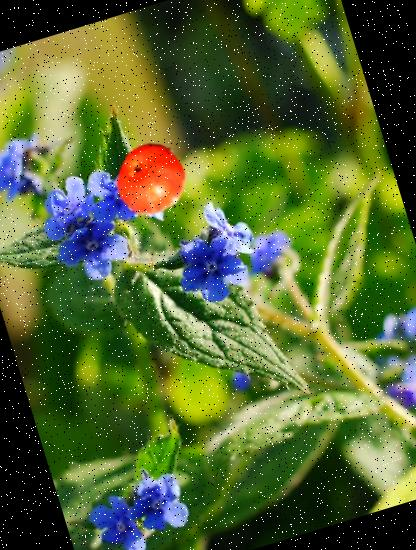Clementine: (104, 130, 199, 226)
